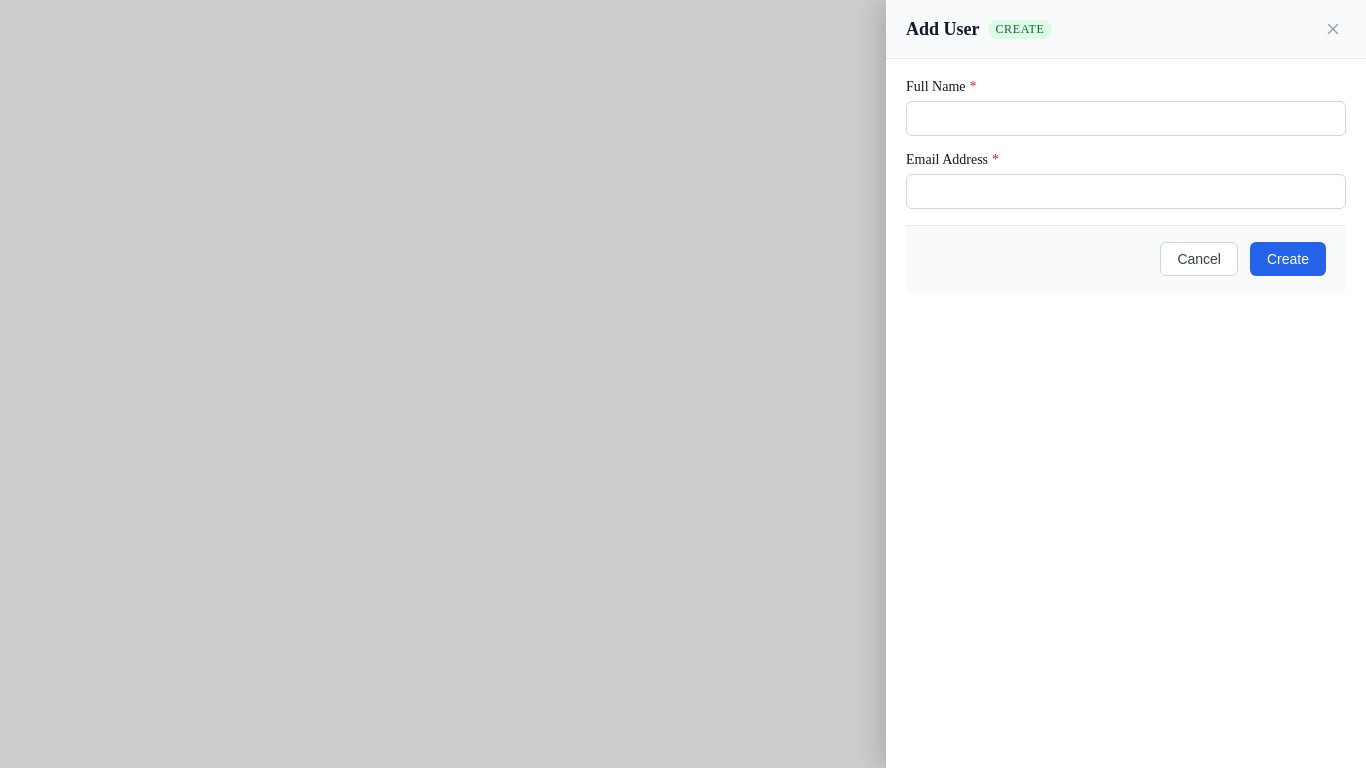
it: CrudDrawer Component › validates inputs against Zod schema on submit
The image size is (1366, 768).
Click the button "Create": (1288, 259) left=1250, top=242, right=1326, bottom=276
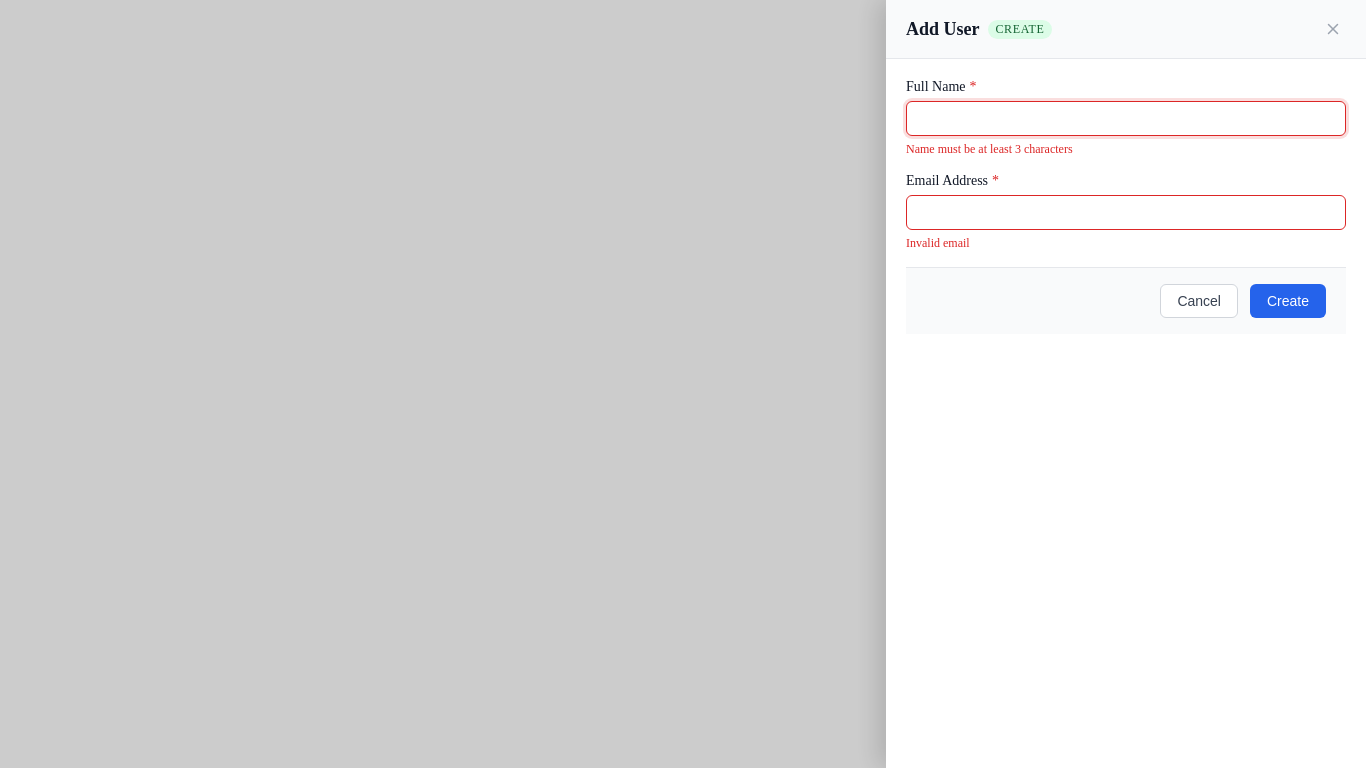
Check: the text "Name must be at least 3 characters" is shown, box left=906, top=142, right=1073, bottom=156
